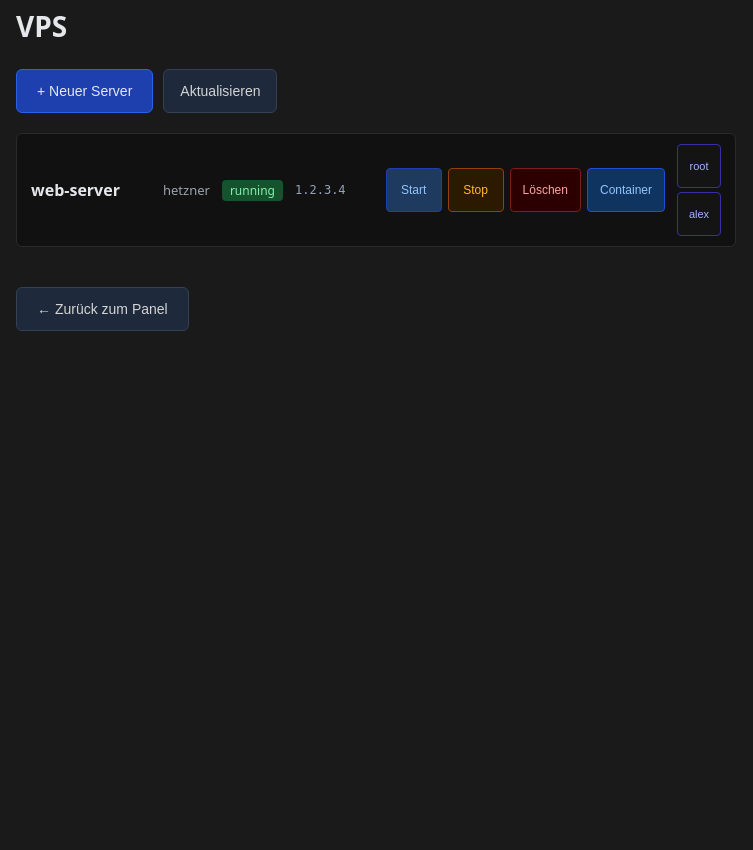
Test: VpsContainerScanButton — AC10: Knopf-Aktivierung › managed + laufender Container: Scan-Knopf ist aktiv
Click the button "Container".
click(626, 190)  # box [587, 168, 665, 212]
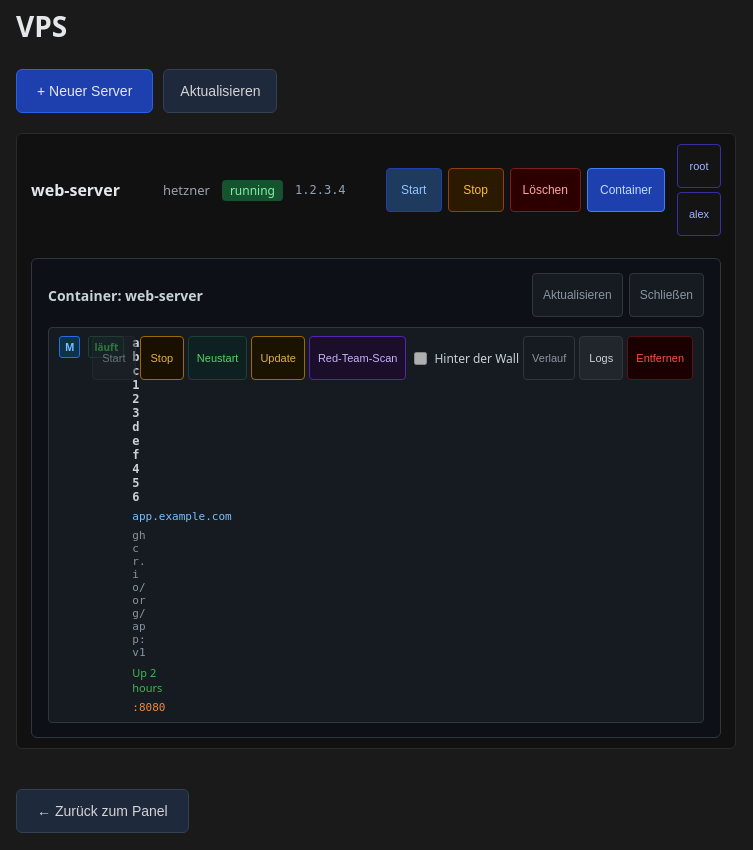
Check: the button with aria-label "red-team-scan für container abc123def456" is enabled, box [309, 336, 406, 380]
